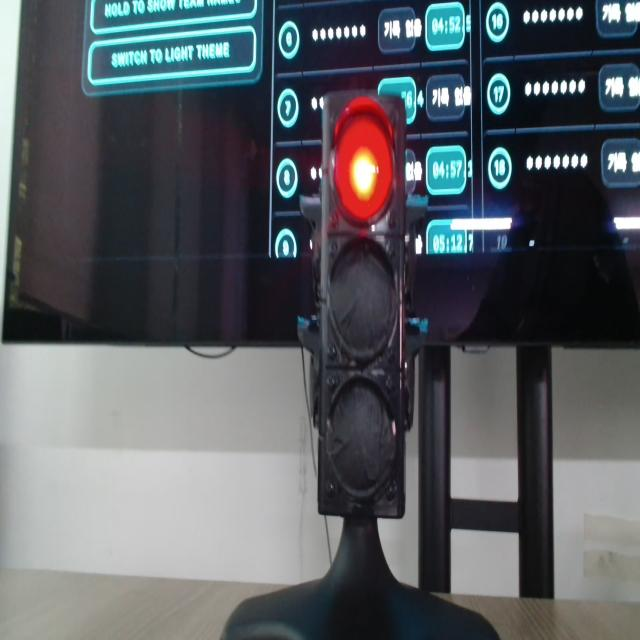red_light: (335, 99, 393, 222)
